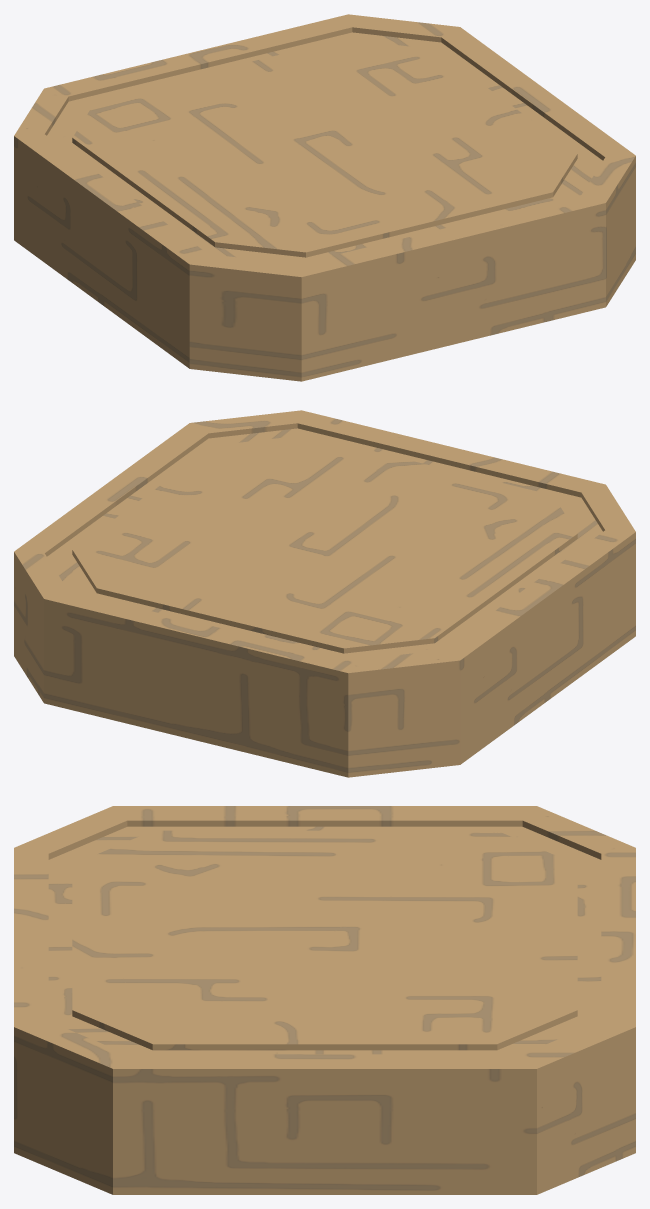
The model's file is Mesh_Platform1.glb.
The picture shows the model from 3 angles, top to bottom: view 1: azimuth 30°, elevation 25°; view 2: azimuth 150°, elevation 25°; view 3: azimuth 270°, elevation 25°; orthographic projection. The views are drawn at different scales.
Visible parts, largest first — view 1: Cube.036-convcol; view 2: Cube.036-convcol; view 3: Cube.036-convcol.
Boxes of the visible parts, left/top/right/bottom form: Cube.036-convcol: left=14, top=14, right=635, bottom=381; Cube.036-convcol: left=14, top=410, right=635, bottom=777; Cube.036-convcol: left=14, top=806, right=635, bottom=1194.
Bounding box in the file's own units: 31.3 × 7 × 31.3.
1 material, 1 textured.
